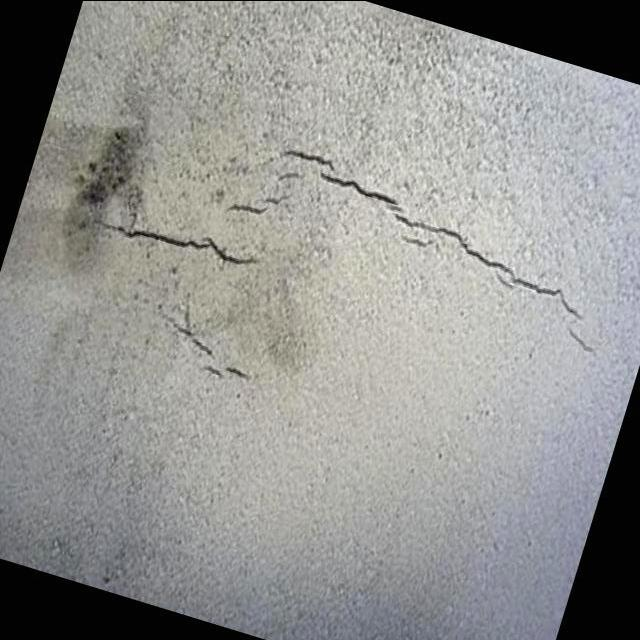defect: (225, 144, 597, 357), (90, 215, 260, 267), (172, 317, 254, 385)
